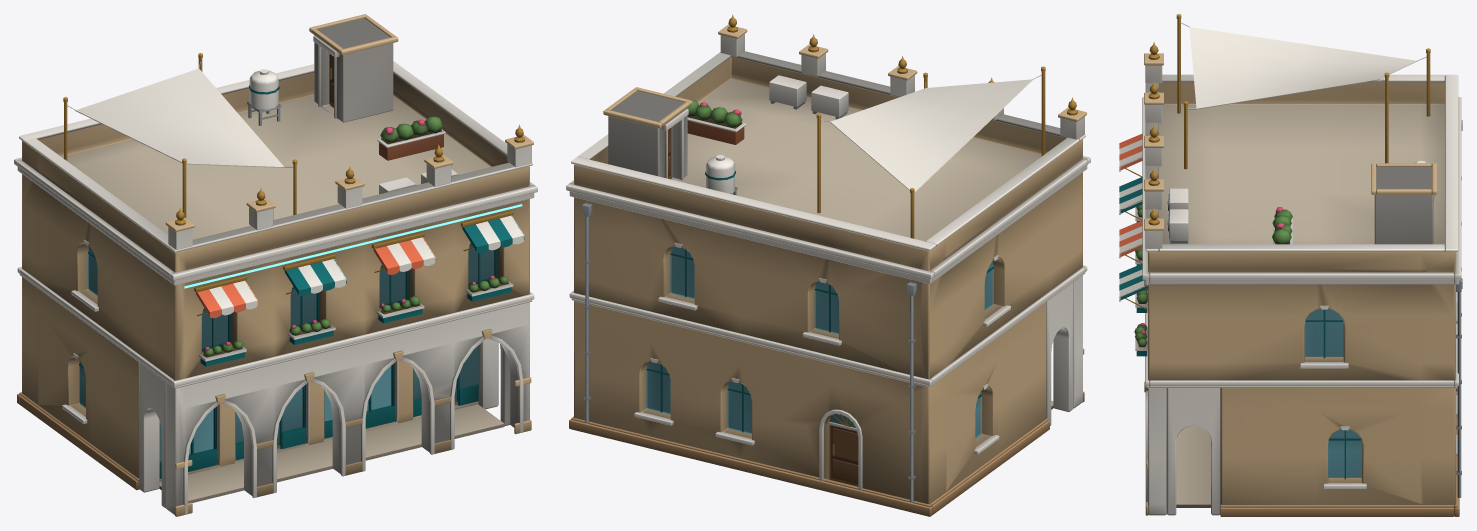
Rendered from bldg_shoprow.fbx.
The picture shows the model from 3 angles, left to right: view 1: azimuth 30°, elevation 25°; view 2: azimuth 150°, elevation 25°; view 3: azimuth 270°, elevation 25°; orthographic projection.
Parts seen in each view (by area): view 1: bldg_shoprow; view 2: bldg_shoprow; view 3: bldg_shoprow.
Boxes of the visible parts, left/top/right/bottom form: bldg_shoprow: left=14, top=14, right=537, bottom=516; bldg_shoprow: left=566, top=14, right=1090, bottom=516; bldg_shoprow: left=1119, top=14, right=1462, bottom=516.
Size of the model in its own units: 12.16 by 10.85 by 9.91.
